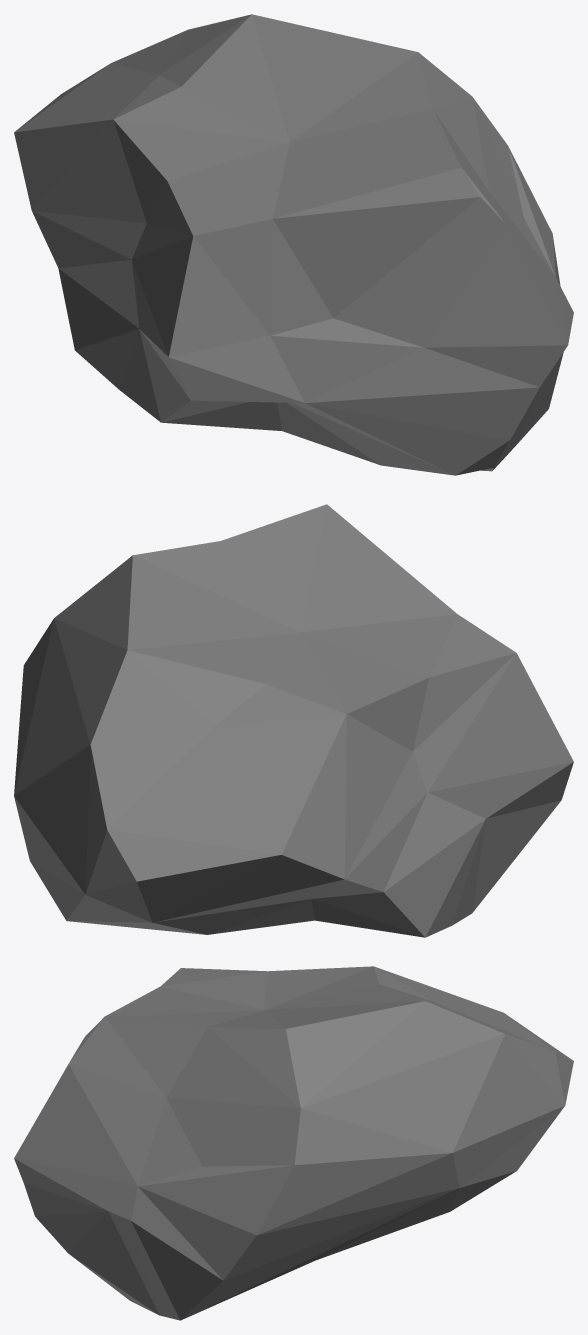
The model's file is Rock1.fbx.
The picture shows the model from 3 angles, top to bottom: view 1: azimuth 30°, elevation 25°; view 2: azimuth 150°, elevation 25°; view 3: azimuth 270°, elevation 25°; orthographic projection. The views are drawn at different scales.
Visible parts, largest first — view 1: Rock1; view 2: Rock1; view 3: Rock1.
Boxes of the visible parts, box(x1,y1,x2,y2) form: Rock1: box(14, 14, 573, 475); Rock1: box(14, 504, 573, 937); Rock1: box(14, 966, 573, 1320).
Size of the model in its own units: 1.68 by 1.24 by 2.25.
